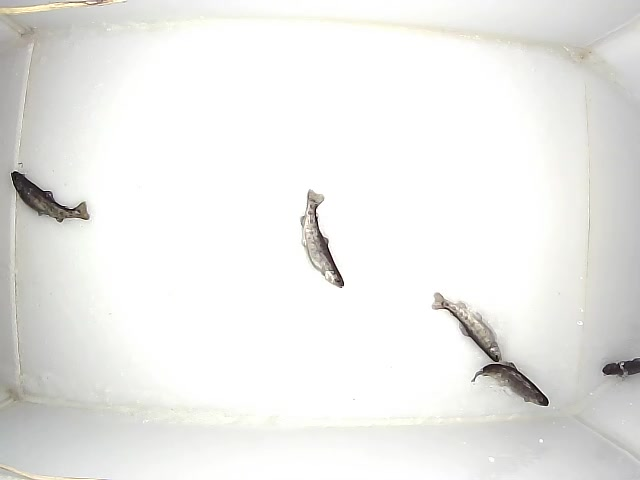fish: (432, 292, 502, 363), (300, 189, 344, 288), (11, 171, 90, 223), (471, 361, 549, 406), (602, 357, 640, 376)
